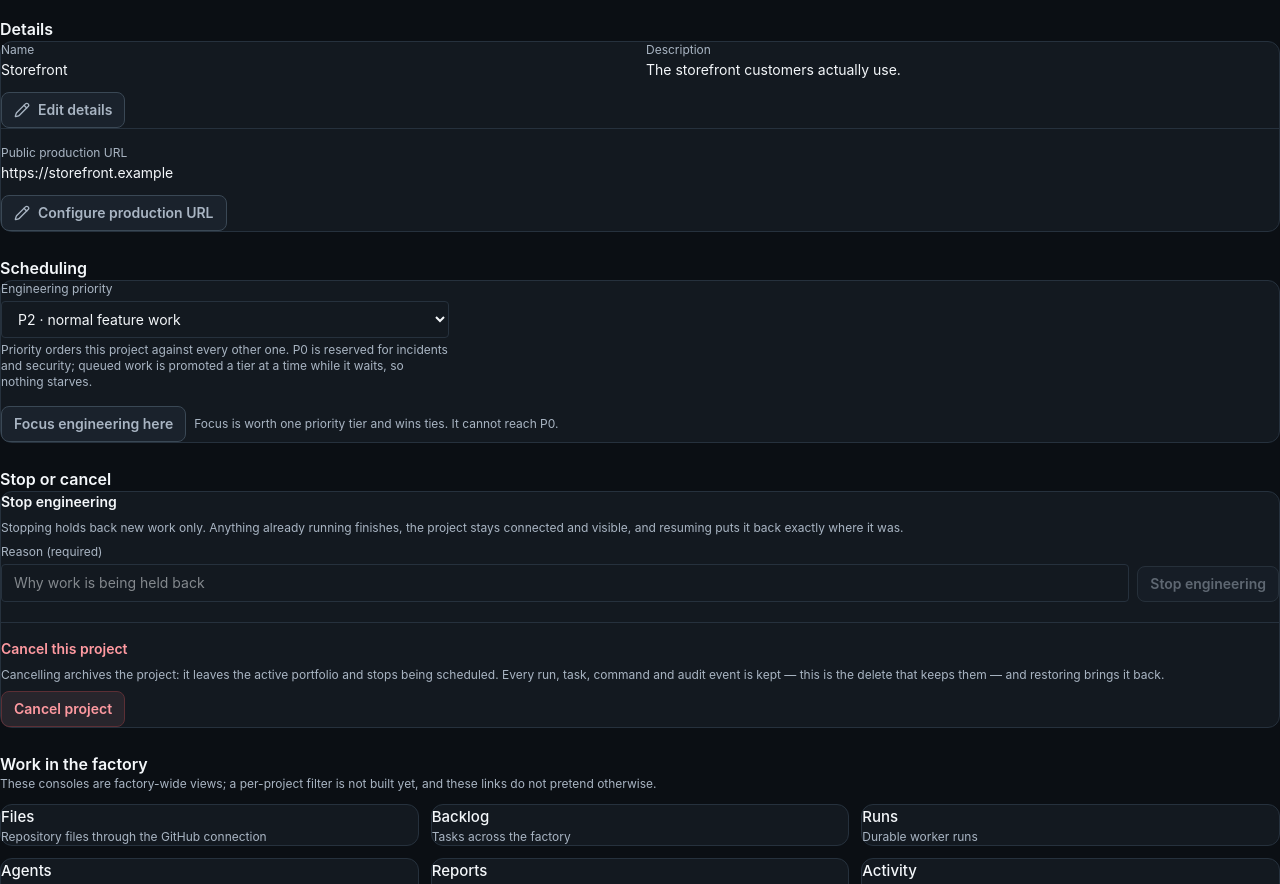
Test: project detail controls › shows the database's refusal word for word
(page scrolled)
Type "Trying anyway" into the field with placeholder "Why work is being held back". click: (565, 583)
box: x1=1 y1=564 x2=1129 y2=602
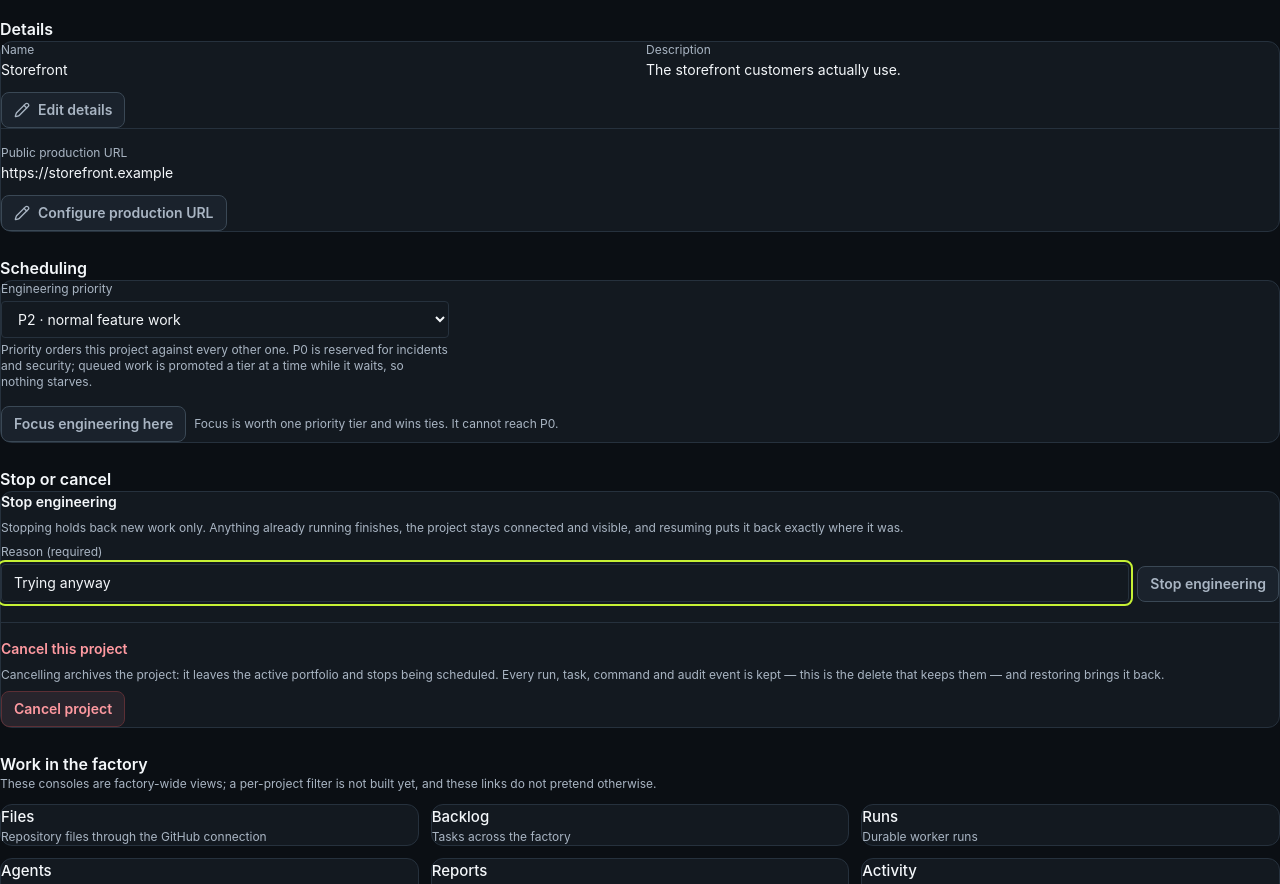
Click the button "Stop engineering". click: (1208, 584)
box: x1=1137 y1=566 x2=1279 y2=602
(page scrolled)
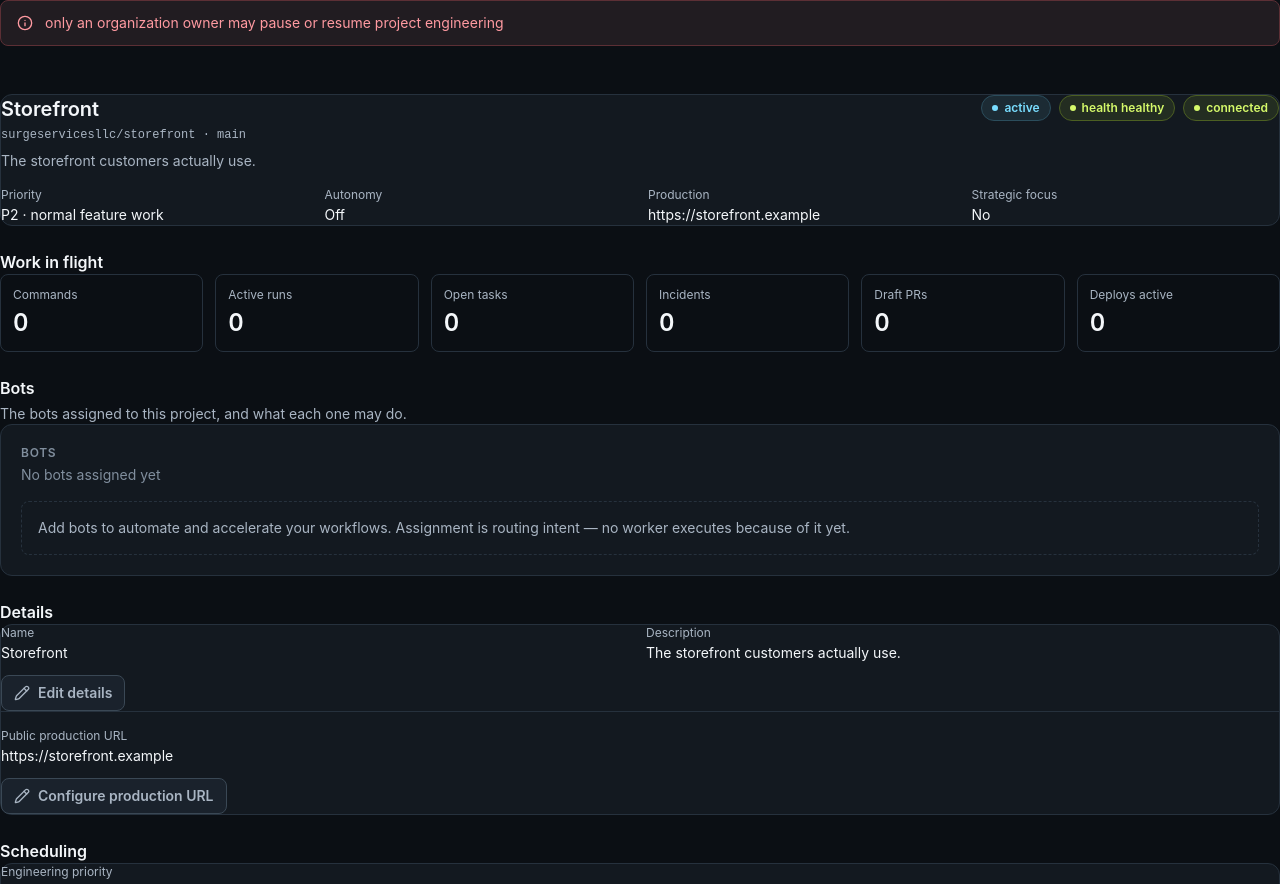
Now the text "only an organization owner may pause or resume" is shown, box x1=45 y1=14 x2=504 y2=31
